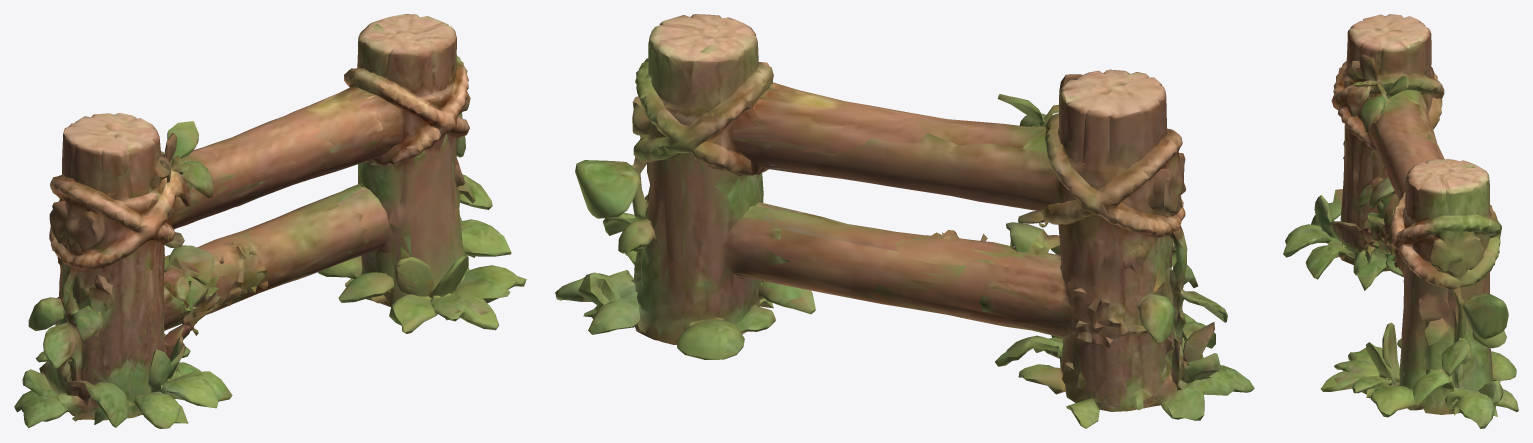
File: valla.glb
3 renders of one model, left to right at view 1: azimuth 30°, elevation 25°; view 2: azimuth 150°, elevation 25°; view 3: azimuth 270°, elevation 25°, orthographic. The views are drawn at different scales.
Parts seen in each view (by area): view 1: valla_malla; view 2: valla_malla; view 3: valla_malla.
Boxes of the visible parts, left/top/right/bottom form: valla_malla: left=14, top=14, right=526, bottom=428; valla_malla: left=555, top=14, right=1254, bottom=428; valla_malla: left=1283, top=14, right=1518, bottom=428.
Size of the model in its own units: 0.3436 by 0.1612 by 0.1503.
1 material, 1 textured.
